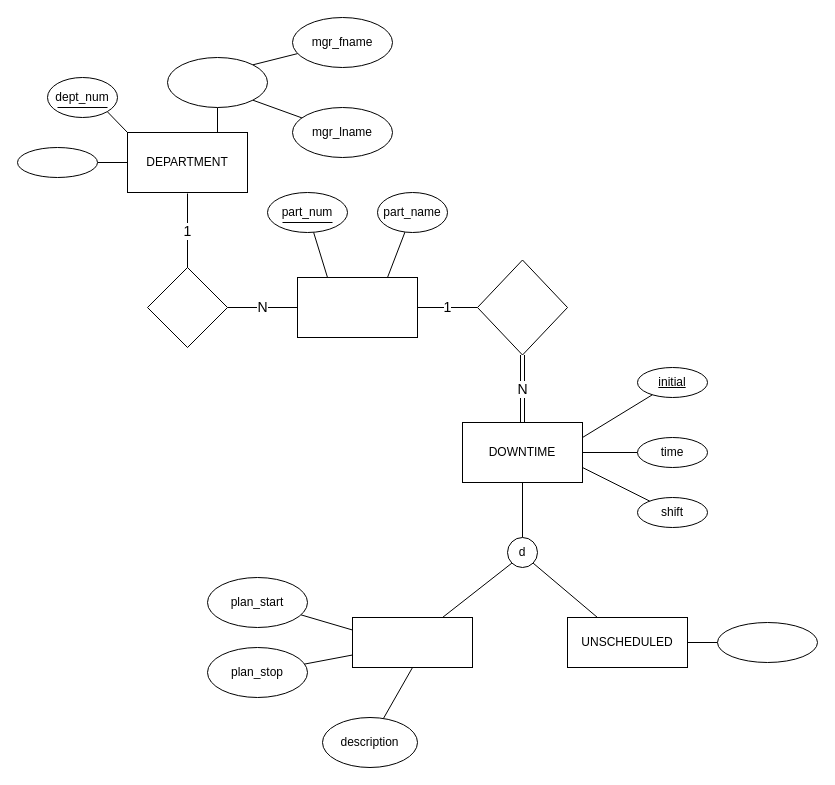
Some shapes in this 835 by 785 pixel diagram are drawn without their labels. The box of each missing label's shape, as (x1, y1, x2, y2) in pixels:
cause: (716, 622, 818, 662)
dept_name: (16, 146, 98, 178)
EQUIPMENT: (296, 276, 418, 338)
HAS: (146, 266, 228, 348)
mgr_name: (166, 56, 268, 108)
MUST_HAVE: (476, 259, 568, 355)
SCHEDULED: (352, 616, 472, 668)
